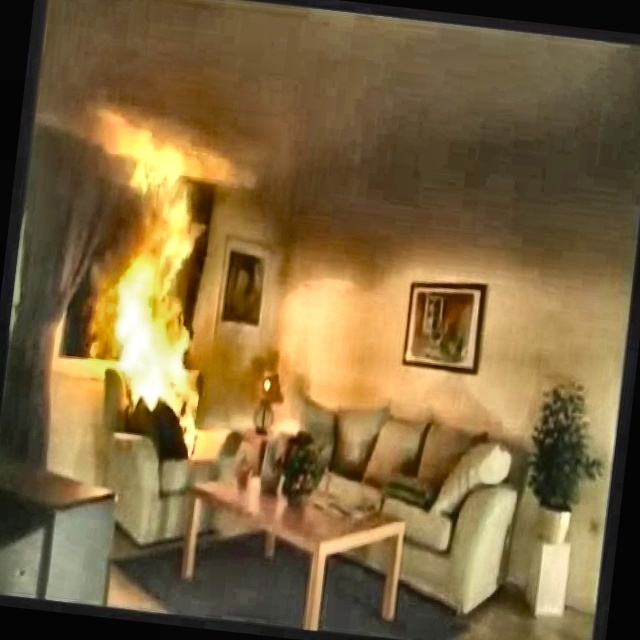fire: (75, 137, 242, 426)
smoke: (225, 4, 640, 267)
